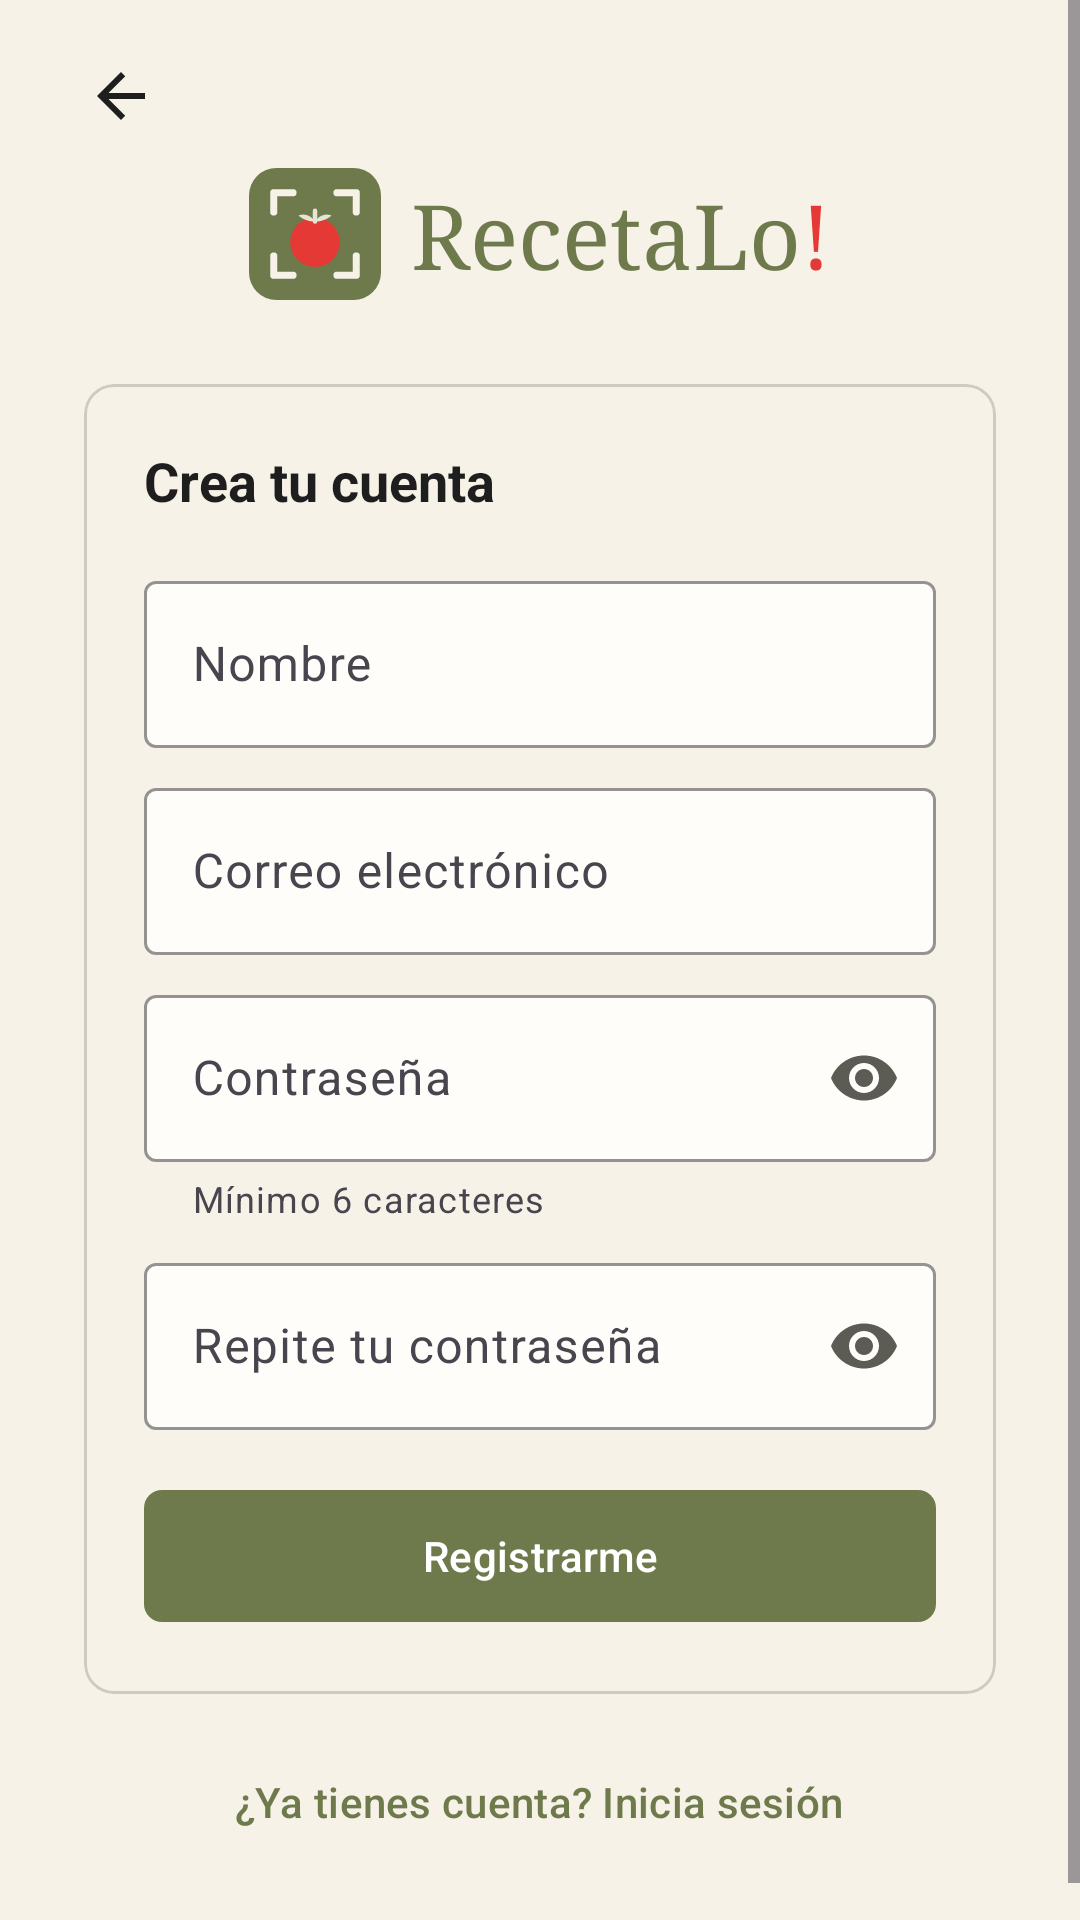

Icon click points for this 1080×1920 phone screenshot, format [x,y]:
Volver: [121,96]
